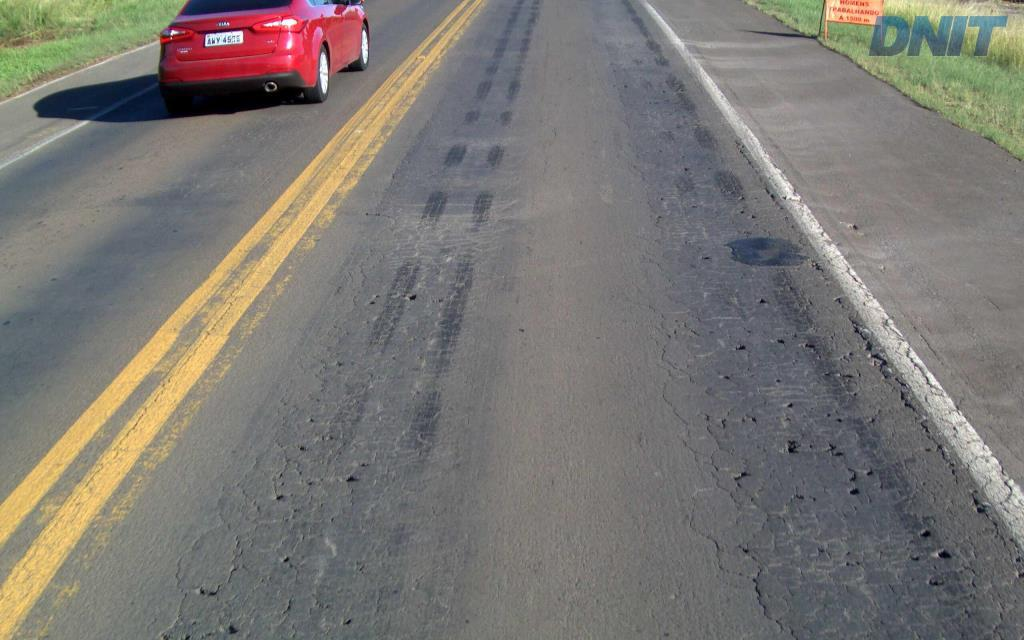crack: (803, 335, 846, 409), (772, 269, 803, 314), (927, 563, 966, 596), (907, 530, 943, 563), (437, 307, 462, 346), (866, 462, 896, 490)
